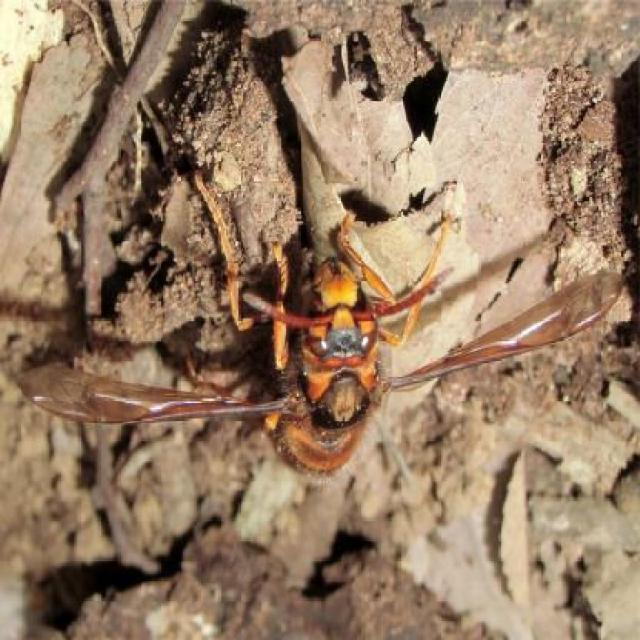Wasp: (3, 168, 621, 482)
